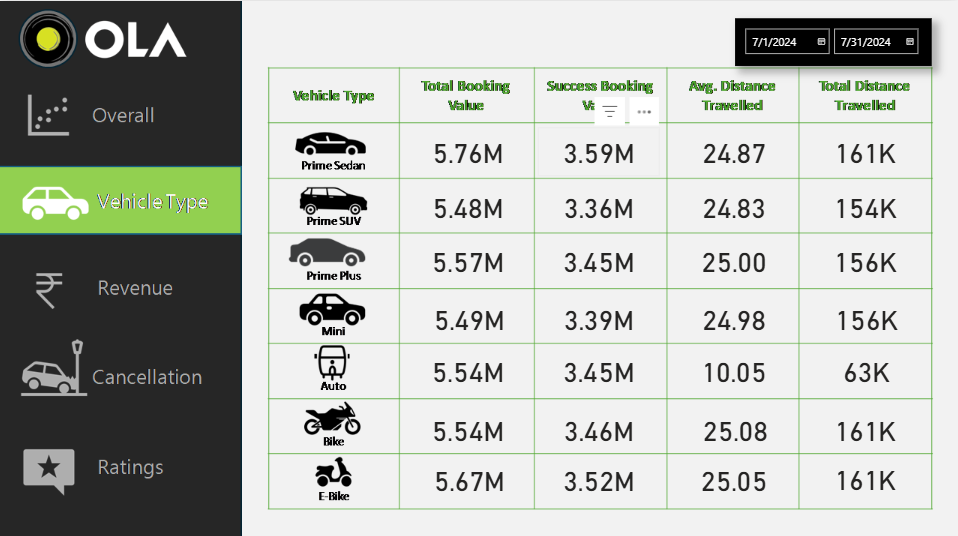

This screenshot's page, from the dashboard's own definition file:
{"tool":"powerbi","page":{"name":"Vehicle Type","canvas":[1280,720],"ordinal":1},"visuals":[{"type":"actionButton","box":[0,332,326,90],"z":0},{"type":"actionButton","box":[0,448,326,90],"z":1000},{"type":"actionButton","box":[0,580,326,90],"z":2000},{"type":"actionButton","box":[0,110,326,90],"z":3000},{"type":"card","fields":{"Values":["Sum(July.Booking_Value)"]},"box":[543.8,167.5,163.8,65],"z":4000},{"type":"card","fields":{"Values":["Sum(July.Booking_Value)"]},"box":[543.8,241.2,163.8,65],"z":5000},{"type":"card","fields":{"Values":["Sum(July.Booking_Value)"]},"box":[543.8,312.5,163.8,65],"z":6000},{"type":"card","fields":{"Values":["Sum(July.Booking_Value)"]},"box":[545,390,163.8,65],"z":7000},{"type":"card","fields":{"Values":["Sum(July.Booking_Value)"]},"box":[543.8,460,163.8,65],"z":8000},{"type":"card","fields":{"Values":["Sum(July.Booking_Value)"]},"box":[543.8,537.5,163.8,65],"z":9000},{"type":"card","fields":{"Values":["Sum(July.Booking_Value)"]},"box":[545,605,163.8,65],"z":10000},{"type":"card","fields":{"Values":["Sum(July.Booking_Value)"]},"box":[717.5,167.5,163.8,65],"z":11000},{"type":"card","fields":{"Values":["Sum(July.Booking_Value)"]},"box":[717.5,241.2,163.8,65],"z":12000},{"type":"card","fields":{"Values":["Sum(July.Booking_Value)"]},"box":[717.5,312.5,163.8,65],"z":13000},{"type":"card","fields":{"Values":["Sum(July.Booking_Value)"]},"box":[717.5,390,163.8,65],"z":14000},{"type":"card","fields":{"Values":["Sum(July.Booking_Value)"]},"box":[717.5,460,163.8,65],"z":15000},{"type":"card","fields":{"Values":["Sum(July.Booking_Value)"]},"box":[718.8,537.5,163.8,65],"z":16000},{"type":"card","fields":{"Values":["Sum(July.Booking_Value)"]},"box":[717.5,605,163.8,65],"z":17000},{"type":"card","fields":{"Values":["Avg(July.Ride_Distance)"]},"box":[897.5,167.5,163.8,65],"z":18000},{"type":"card","fields":{"Values":["Avg(July.Ride_Distance)"]},"box":[897.5,241.2,163.8,65],"z":19000},{"type":"card","fields":{"Values":["Avg(July.Ride_Distance)"]},"box":[898.8,312.5,163.8,65],"z":20000},{"type":"card","fields":{"Values":["Avg(July.Ride_Distance)"]},"box":[897.5,390,163.8,65],"z":21000},{"type":"card","fields":{"Values":["Avg(July.Ride_Distance)"]},"box":[897.5,460,163.8,65],"z":22000},{"type":"card","fields":{"Values":["Avg(July.Ride_Distance)"]},"box":[900,537.5,163.8,65],"z":23000},{"type":"card","fields":{"Values":["Avg(July.Ride_Distance)"]},"box":[897.5,605,163.8,65],"z":24000},{"type":"card","fields":{"Values":["Sum(July.Ride_Distance)"]},"box":[1073.8,167.5,163.8,65],"z":25000},{"type":"card","fields":{"Values":["Sum(July.Ride_Distance)"]},"box":[1073.8,241.2,163.8,65],"z":26000},{"type":"card","fields":{"Values":["Sum(July.Ride_Distance)"]},"box":[1073.8,312.5,163.8,65],"z":27000},{"type":"card","fields":{"Values":["Sum(July.Ride_Distance)"]},"box":[1075,390,163.8,65],"z":28000},{"type":"card","fields":{"Values":["Sum(July.Ride_Distance)"]},"box":[1075,460,163.8,65],"z":29000},{"type":"card","fields":{"Values":["Sum(July.Ride_Distance)"]},"box":[1073.8,537.5,163.8,65],"z":30000},{"type":"card","fields":{"Values":["Sum(July.Ride_Distance)"]},"box":[1073.8,602.5,163.8,65],"z":31000},{"type":"slicer","title":"Date","fields":{"Values":["July.Date"]},"box":[981.7,23.3,261.7,63.3],"z":32000}]}

Visuals, with their boxes on the page's 1280x720 design canvas (x1, y1, x2, y2). These are canvas units, not pixel positions in the 958x536 screenshot, which may show the page scaled, cropped or inside an application window:
actionButton: Rect(0, 332, 326, 422)
actionButton: Rect(0, 448, 326, 538)
actionButton: Rect(0, 580, 326, 670)
actionButton: Rect(0, 110, 326, 200)
card - Sum(July.Booking_Value): Rect(544, 168, 708, 232)
card - Sum(July.Booking_Value): Rect(544, 241, 708, 306)
card - Sum(July.Booking_Value): Rect(544, 312, 708, 378)
card - Sum(July.Booking_Value): Rect(545, 390, 709, 455)
card - Sum(July.Booking_Value): Rect(544, 460, 708, 525)
card - Sum(July.Booking_Value): Rect(544, 538, 708, 602)
card - Sum(July.Booking_Value): Rect(545, 605, 709, 670)
card - Sum(July.Booking_Value): Rect(718, 168, 881, 232)
card - Sum(July.Booking_Value): Rect(718, 241, 881, 306)
card - Sum(July.Booking_Value): Rect(718, 312, 881, 378)
card - Sum(July.Booking_Value): Rect(718, 390, 881, 455)
card - Sum(July.Booking_Value): Rect(718, 460, 881, 525)
card - Sum(July.Booking_Value): Rect(719, 538, 883, 602)
card - Sum(July.Booking_Value): Rect(718, 605, 881, 670)
card - Avg(July.Ride_Distance): Rect(898, 168, 1061, 232)
card - Avg(July.Ride_Distance): Rect(898, 241, 1061, 306)
card - Avg(July.Ride_Distance): Rect(899, 312, 1063, 378)
card - Avg(July.Ride_Distance): Rect(898, 390, 1061, 455)
card - Avg(July.Ride_Distance): Rect(898, 460, 1061, 525)
card - Avg(July.Ride_Distance): Rect(900, 538, 1064, 602)
card - Avg(July.Ride_Distance): Rect(898, 605, 1061, 670)
card - Sum(July.Ride_Distance): Rect(1074, 168, 1238, 232)
card - Sum(July.Ride_Distance): Rect(1074, 241, 1238, 306)
card - Sum(July.Ride_Distance): Rect(1074, 312, 1238, 378)
card - Sum(July.Ride_Distance): Rect(1075, 390, 1239, 455)
card - Sum(July.Ride_Distance): Rect(1075, 460, 1239, 525)
card - Sum(July.Ride_Distance): Rect(1074, 538, 1238, 602)
card - Sum(July.Ride_Distance): Rect(1074, 602, 1238, 668)
"Date" slicer: Rect(982, 23, 1243, 87)
